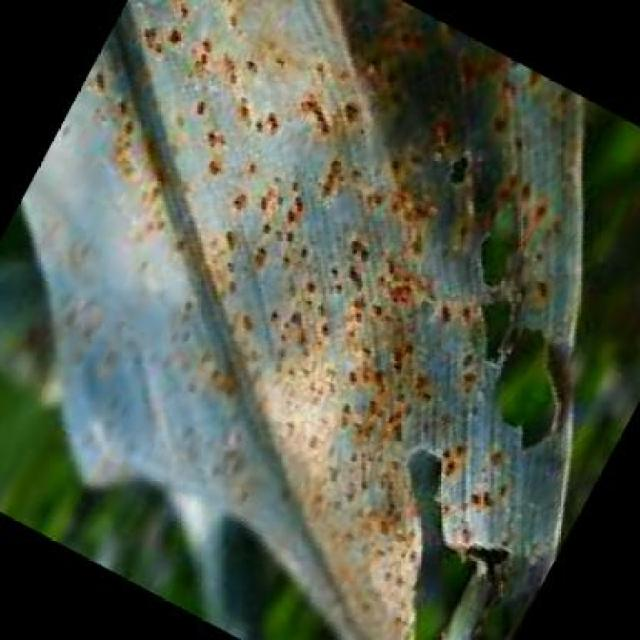Corn_Rust: (98, 58, 531, 577)
